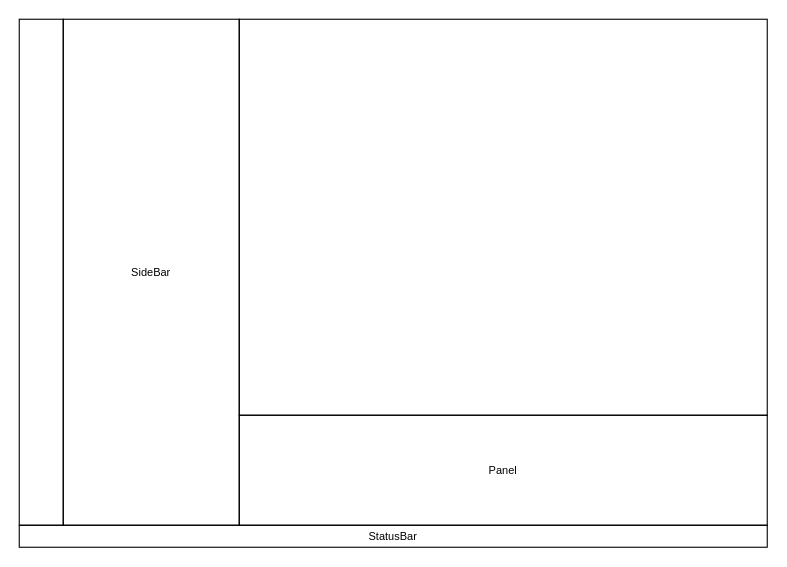
Some shapes in this 787 by 567 pixel diagram are drawn without their labels. Each missing label, with the centre of its shape:
"Activity Bar" goes at point (40, 271).
"WorkArea" goes at point (502, 216).
